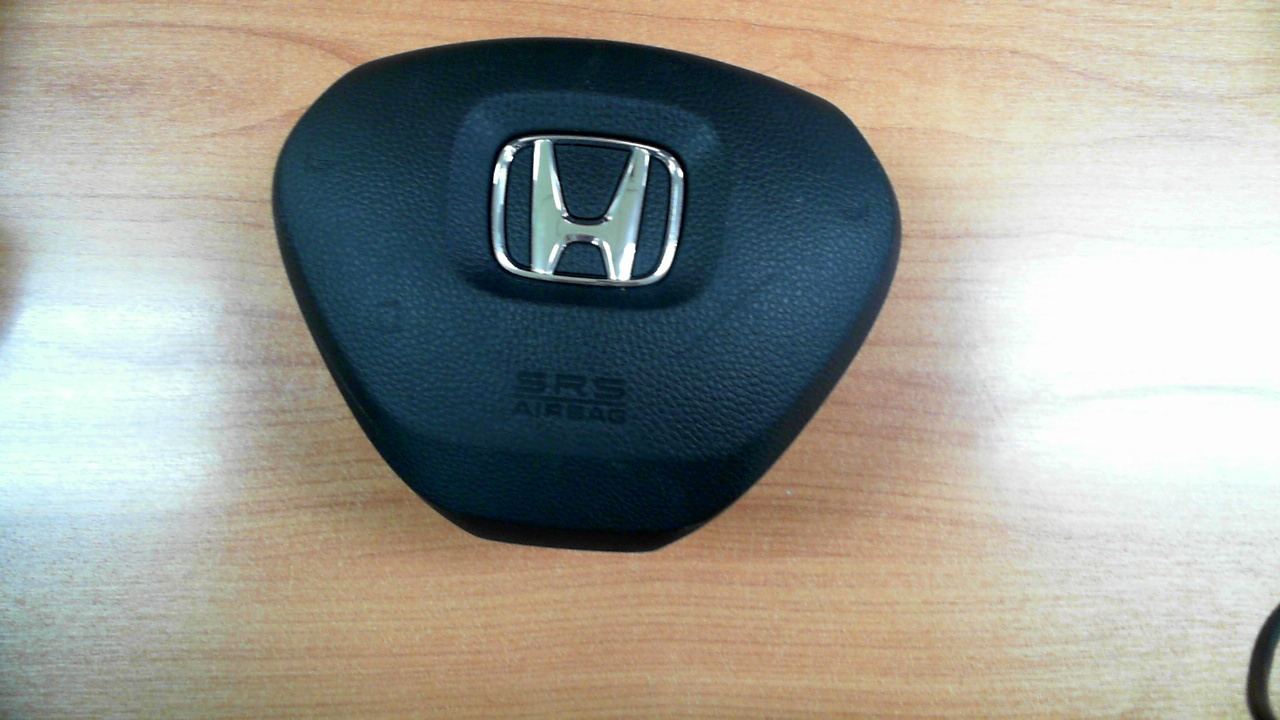Airbag: (271, 37, 902, 555)
Honda: (491, 135, 684, 287)
